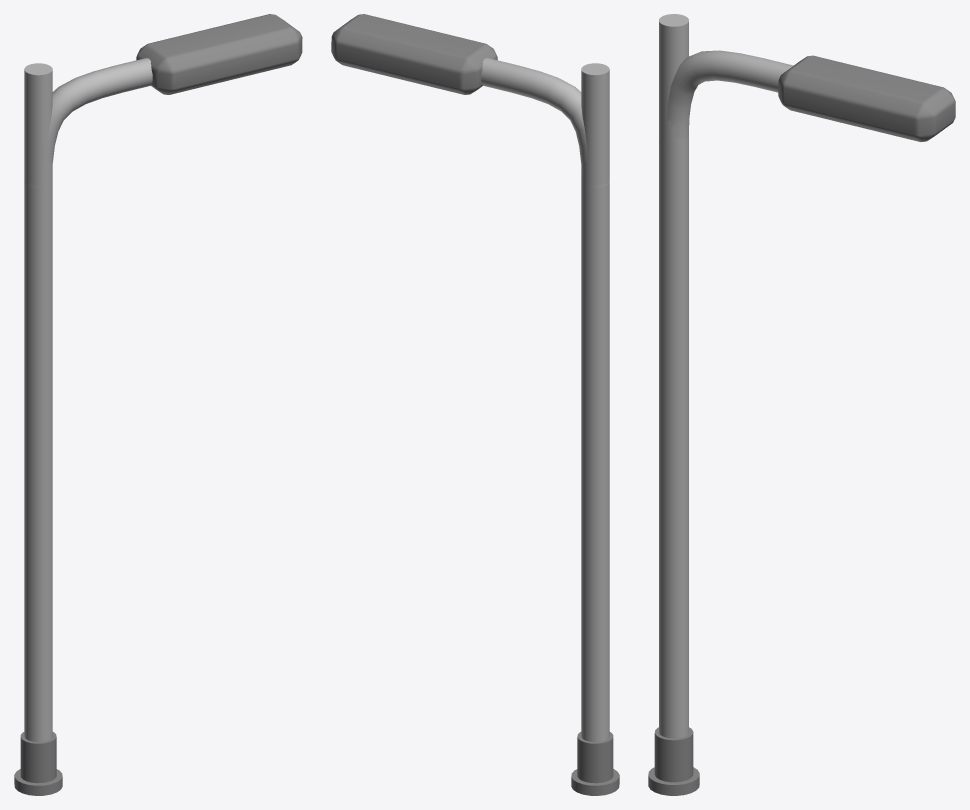
The model's file is Streetlight.fbx.
3 renders of one model, left to right at view 1: azimuth 30°, elevation 25°; view 2: azimuth 150°, elevation 25°; view 3: azimuth 330°, elevation 25°, orthographic. The views are drawn at different scales.
Visible parts, largest first — view 1: polySurface63; view 2: polySurface63; view 3: polySurface63.
Boxes of the visible parts, x1,y1,x2,y2 form: polySurface63: (14,14,302,795); polySurface63: (331,14,619,795); polySurface63: (648,14,955,795).
Size of the model in its own units: 10.35 by 25.72 by 2.13.
